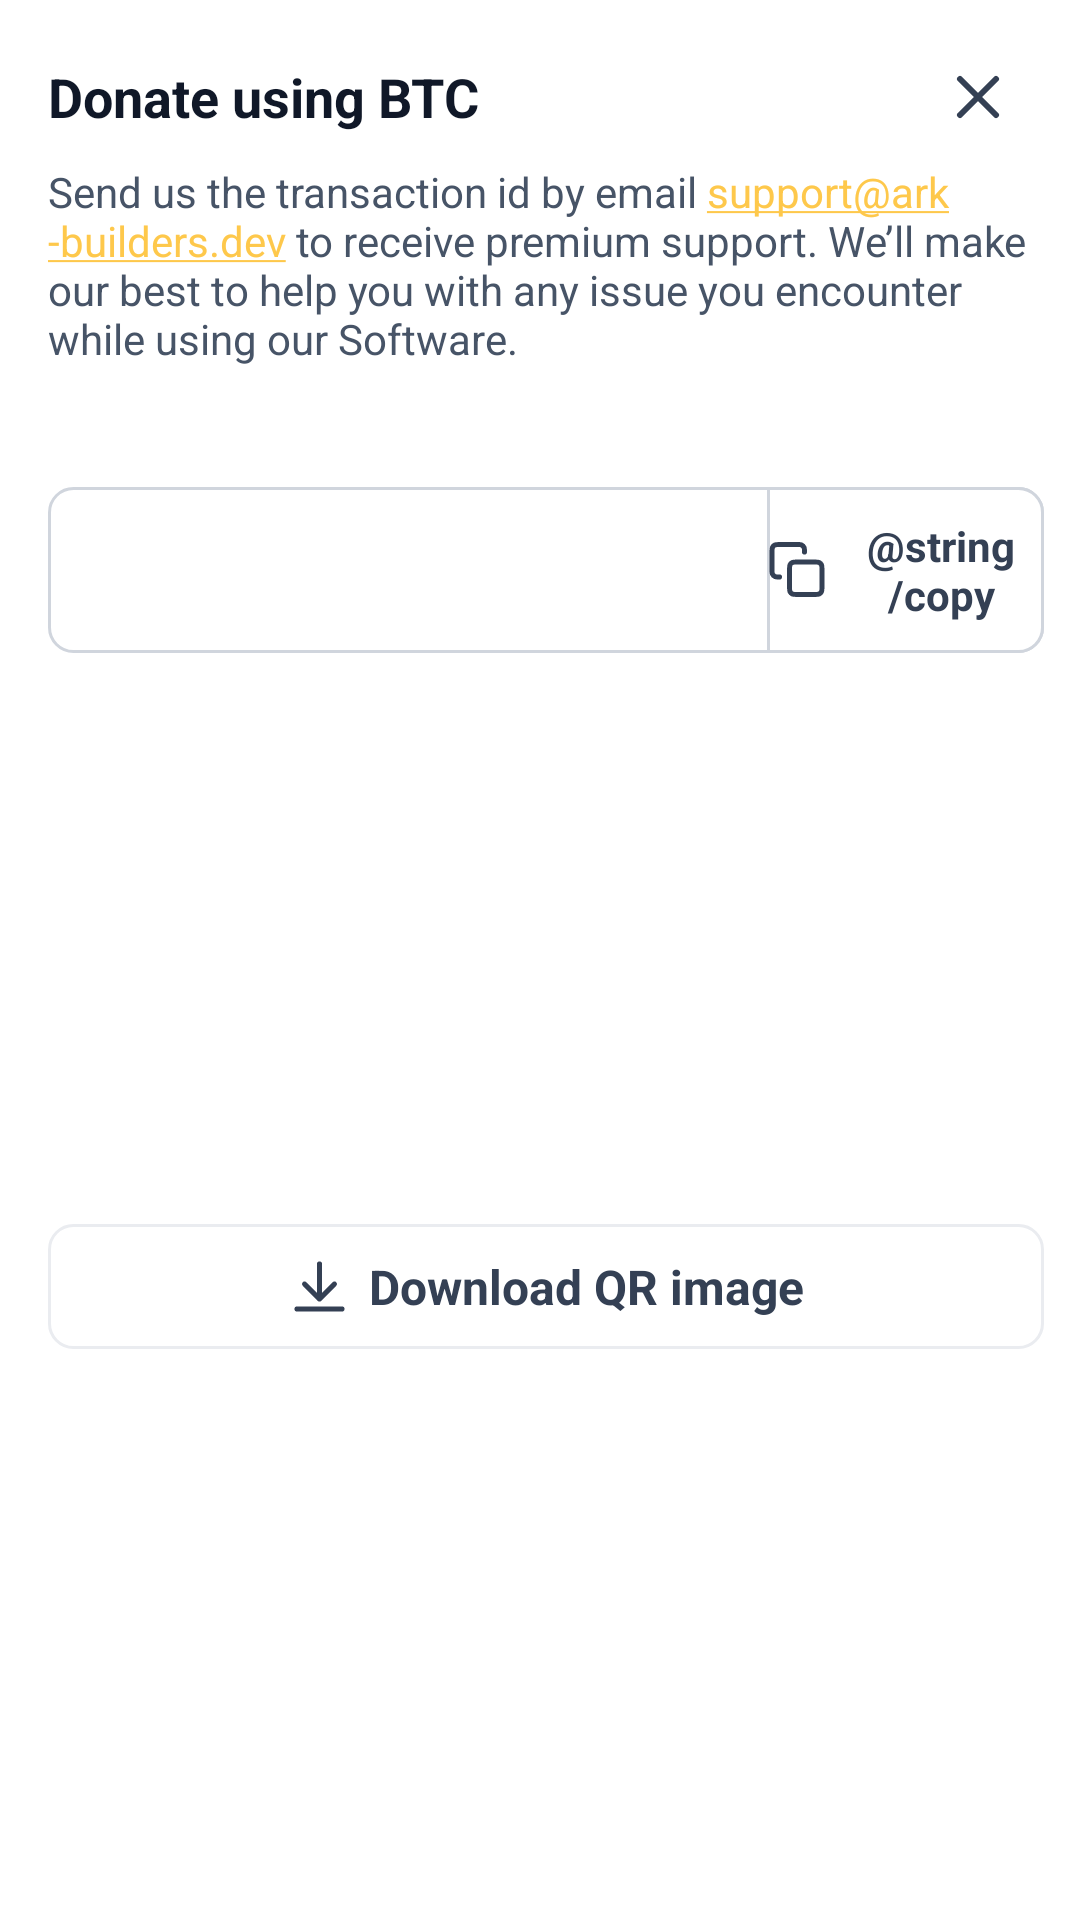

Screen size 1080 × 1920. Icon name, then its center in pixels as (x=x, y=y):
Close: (x=978, y=97)
